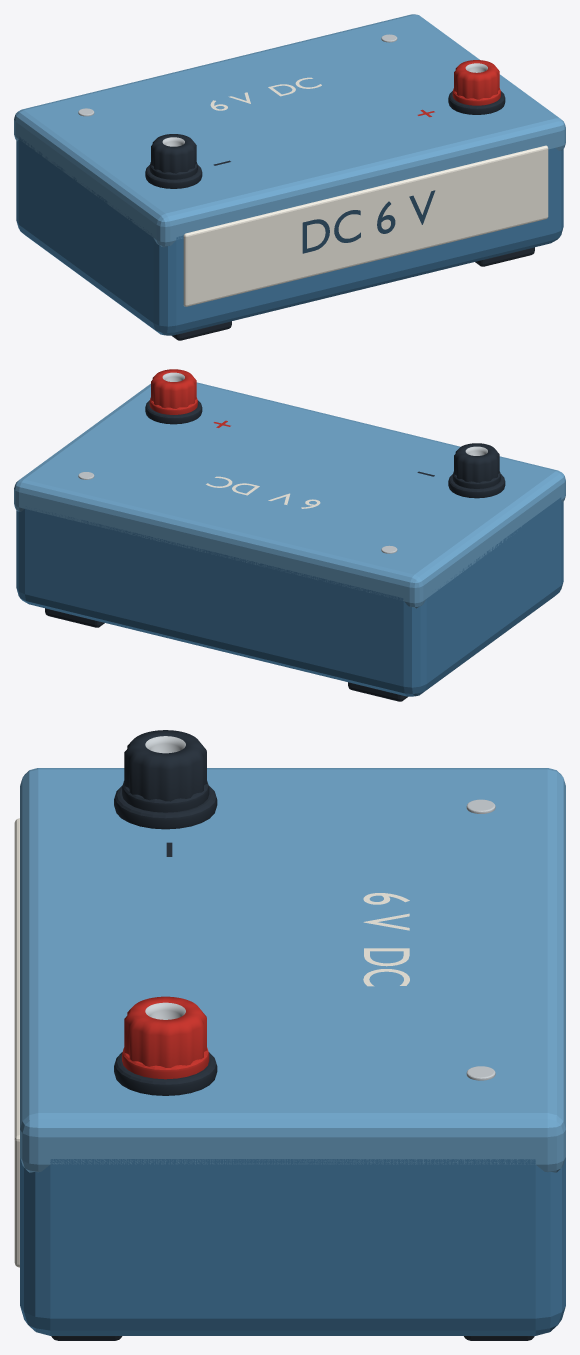
The model's file is dc-power-supply.glb.
3 views of the same model, one above another, from view 1: azimuth 30°, elevation 25°; view 2: azimuth 150°, elevation 25°; view 3: azimuth 270°, elevation 25° (orthographic). The views are drawn at different scales.
Visible parts, largest first — view 1: Molded lid, Insulated power enclosure, Brushed ivory faceplate, n binding socket, p binding socket, Marking DC 6 V, n socket washer, p socket washer, Marking 6 V DC, Rubber foot, Rubber foot.002; view 2: Molded lid, Insulated power enclosure, n binding socket, p binding socket, n socket washer, p socket washer, Marking 6 V DC, Rubber foot.001, Rubber foot.003; view 3: Molded lid, Insulated power enclosure, p binding socket, n binding socket, Brushed ivory faceplate, p socket washer, n socket washer, Marking 6 V DC, n socket foot, p socket foot.
Boxes of the visible parts, x1,y1,x2,y2 form: Molded lid: (14,14,565,247); Insulated power enclosure: (16,136,563,335); Brushed ivory faceplate: (183,145,548,306); n binding socket: (151,134,196,173); p binding socket: (454,60,499,99); Marking DC 6 V: (302,190,435,253); n socket washer: (145,165,202,188); p socket washer: (448,91,505,114); Marking 6 V DC: (210,77,321,110); Rubber foot: (172,321,231,340); Rubber foot.002: (475,247,534,266); Molded lid: (14,382,565,608); Insulated power enclosure: (16,497,563,696); n binding socket: (454,443,499,482); p binding socket: (151,369,196,408); n socket washer: (448,474,505,498); p socket washer: (145,400,202,424); Marking 6 V DC: (206,476,320,508); Rubber foot.001: (348,682,407,701); Rubber foot.003: (45,608,104,627); Molded lid: (20,768,565,1172); Insulated power enclosure: (20,1157,565,1335); p binding socket: (124,996,206,1067); n binding socket: (124,730,206,801); Brushed ivory faceplate: (14,818,19,1267); p socket washer: (114,1052,217,1095); n socket washer: (114,785,217,829); Marking 6 V DC: (363,893,409,986); n socket foot: (122,781,209,812); p socket foot: (122,1047,209,1079).
Bounding box in the file's own units: 0.14 × 0.056 × 0.091.
